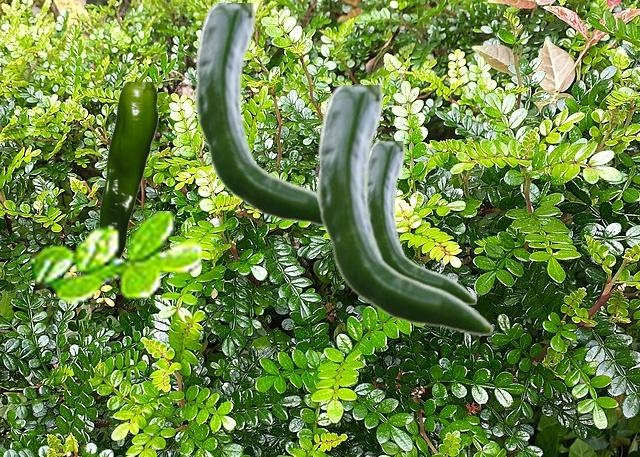green_chili: (317, 85, 493, 334), (195, 3, 323, 229), (369, 141, 476, 303), (98, 82, 157, 256)
